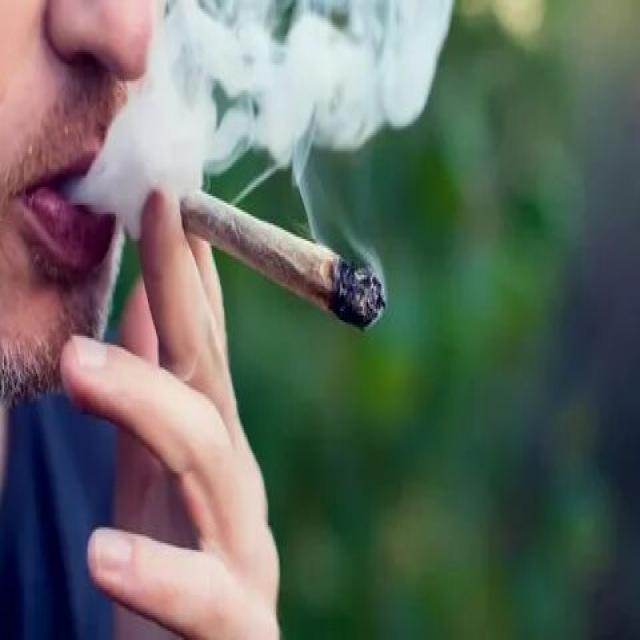smoke: (173, 165, 391, 329)
